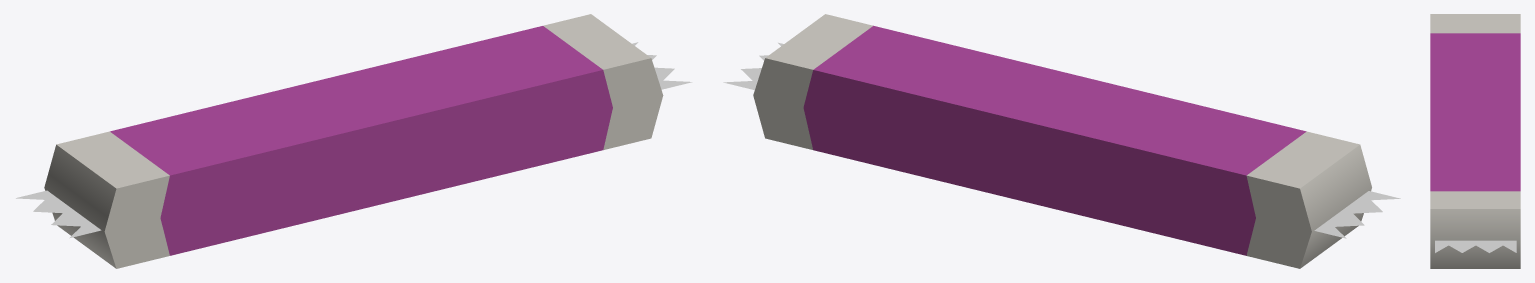
File: SM_Single_Biscuits_Pink.fbx
3 views of the same model, side by side, from view 1: azimuth 30°, elevation 25°; view 2: azimuth 150°, elevation 25°; view 3: azimuth 270°, elevation 25° (orthographic). The views are drawn at different scales.
Visible parts, largest first — view 1: pPlane11; view 2: pPlane11; view 3: pPlane11.
Part boxes in pixels (x1,y1,x2,y2): pPlane11: [16, 14, 692, 268]; pPlane11: [723, 14, 1400, 268]; pPlane11: [1430, 14, 1520, 268].
Bounding box in the file's own units: 0.5139 × 0.0632 × 0.0859.
